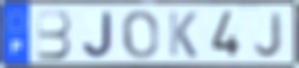4: (209, 9, 243, 60)
B: (35, 8, 73, 62)
J: (80, 10, 114, 59), (253, 11, 284, 59)
K: (167, 9, 199, 59)
O: (121, 9, 160, 60)
